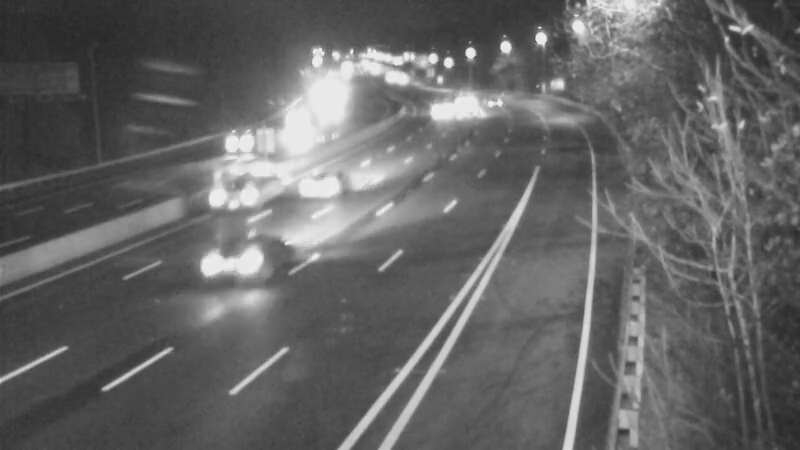vehicle: (284, 145, 364, 225), (198, 143, 278, 223), (188, 233, 268, 313), (440, 75, 490, 125), (468, 75, 518, 125), (412, 83, 462, 133), (442, 92, 492, 142), (211, 117, 261, 167)
